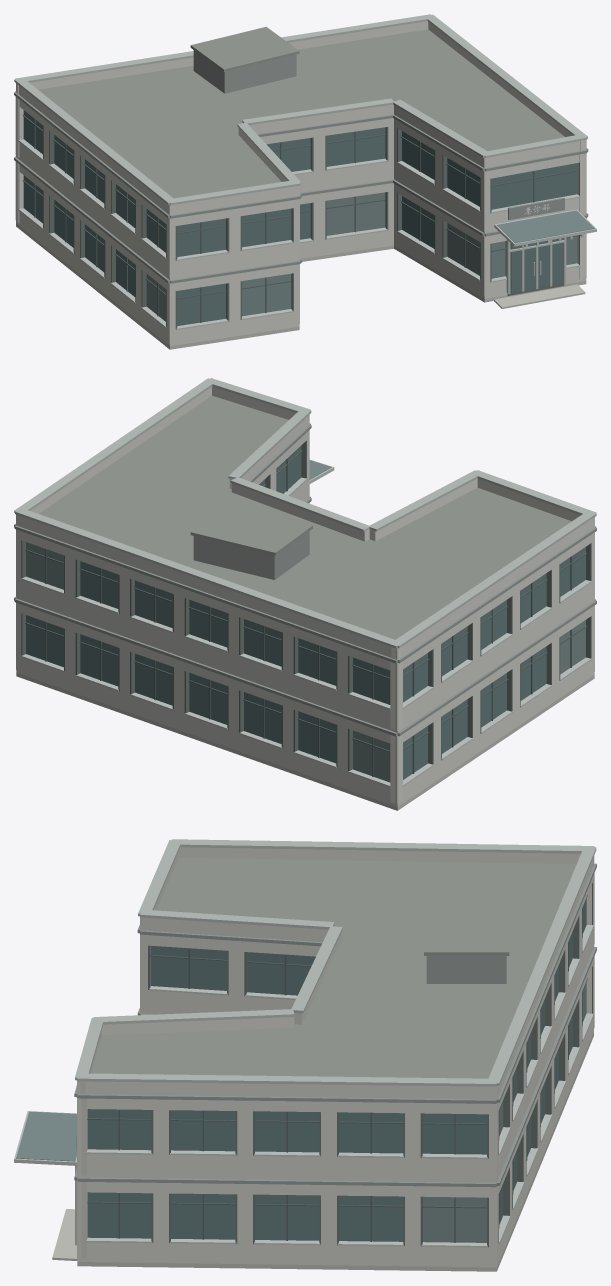
Rendered from mapped_1135310349.glb.
3 renders of one model, top to bottom at view 1: azimuth 30°, elevation 25°; view 2: azimuth 150°, elevation 25°; view 3: azimuth 270°, elevation 25°, orthographic. The views are drawn at different scales.
Visible parts, largest first — view 1: mapped_1135310349_HousingIvory, mapped_1135310349_FacultyRoof, mapped_1135310349_WindowGlass, mapped_1135310349_Teaching5TileJoint, mapped_1135310349_WindowGlassLight, mapped_1135310349_FacultyDarkPanel, mapped_1135310349_WindowAluminium, mapped_1135310349_WindowReveal, mapped_1135310349_EntryStone, mapped_1135310349_WindowRubber; view 2: mapped_1135310349_HousingIvory, mapped_1135310349_FacultyRoof, mapped_1135310349_WindowGlass, mapped_1135310349_Teaching5TileJoint, mapped_1135310349_FacultyDarkPanel, mapped_1135310349_WindowReveal, mapped_1135310349_WindowAluminium, mapped_1135310349_WindowGlassLight, mapped_1135310349_WindowRubber, mapped_1135310349_EntryStone; view 3: mapped_1135310349_HousingIvory, mapped_1135310349_FacultyRoof, mapped_1135310349_WindowGlass, mapped_1135310349_Teaching5TileJoint, mapped_1135310349_FacultyDarkPanel, mapped_1135310349_WindowAluminium, mapped_1135310349_WindowReveal, mapped_1135310349_WindowGlassLight, mapped_1135310349_EntryStone, mapped_1135310349_WindowRubber.
Part boxes in pixels (bbox=[...]): mapped_1135310349_HousingIvory: bbox=[15, 21, 586, 346]; mapped_1135310349_FacultyRoof: bbox=[38, 26, 564, 198]; mapped_1135310349_WindowGlass: bbox=[23, 110, 577, 325]; mapped_1135310349_Teaching5TileJoint: bbox=[14, 14, 587, 205]; mapped_1135310349_WindowGlassLight: bbox=[146, 192, 594, 321]; mapped_1135310349_FacultyDarkPanel: bbox=[14, 50, 588, 283]; mapped_1135310349_WindowAluminium: bbox=[18, 139, 596, 329]; mapped_1135310349_WindowReveal: bbox=[19, 107, 579, 329]; mapped_1135310349_EntryStone: bbox=[16, 223, 586, 349]; mapped_1135310349_WindowRubber: bbox=[22, 115, 577, 322]; mapped_1135310349_HousingIvory: bbox=[16, 386, 594, 806]; mapped_1135310349_FacultyRoof: bbox=[39, 395, 571, 639]; mapped_1135310349_WindowGlass: bbox=[26, 446, 585, 779]; mapped_1135310349_Teaching5TileJoint: bbox=[14, 378, 596, 648]; mapped_1135310349_FacultyDarkPanel: bbox=[14, 423, 596, 736]; mapped_1135310349_WindowReveal: bbox=[21, 440, 591, 770]; mapped_1135310349_WindowAluminium: bbox=[21, 459, 591, 787]; mapped_1135310349_WindowGlassLight: bbox=[26, 460, 585, 782]; mapped_1135310349_WindowRubber: bbox=[25, 450, 586, 776]; mapped_1135310349_EntryStone: bbox=[16, 672, 594, 810]; mapped_1135310349_HousingIvory: bbox=[77, 847, 594, 1267]; mapped_1135310349_FacultyRoof: bbox=[91, 858, 576, 1078]; mapped_1135310349_WindowGlass: bbox=[87, 899, 586, 1241]; mapped_1135310349_Teaching5TileJoint: bbox=[75, 839, 596, 1086]; mapped_1135310349_FacultyDarkPanel: bbox=[74, 863, 596, 1187]; mapped_1135310349_WindowAluminium: bbox=[14, 925, 593, 1247]; mapped_1135310349_WindowReveal: bbox=[148, 882, 592, 1247]; mapped_1135310349_WindowGlassLight: bbox=[16, 982, 586, 1242]; mapped_1135310349_EntryStone: bbox=[52, 1032, 593, 1271]; mapped_1135310349_WindowRubber: bbox=[87, 894, 587, 1242].
Bounding box in the file's own units: 21.78 × 9.08 × 21.87.
